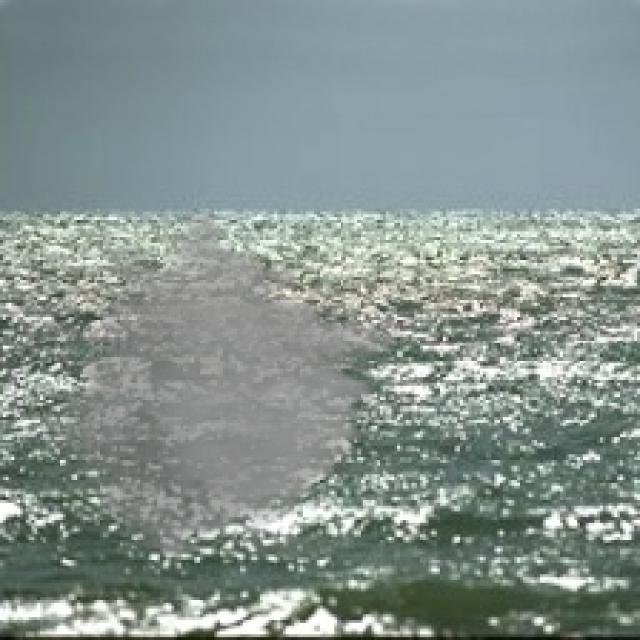smoke: (14, 209, 412, 560)
